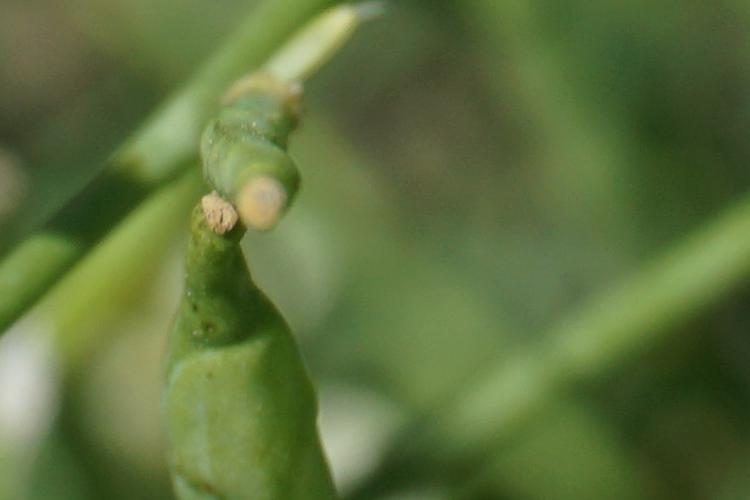pod: (143, 233, 369, 484), (159, 100, 330, 241)
